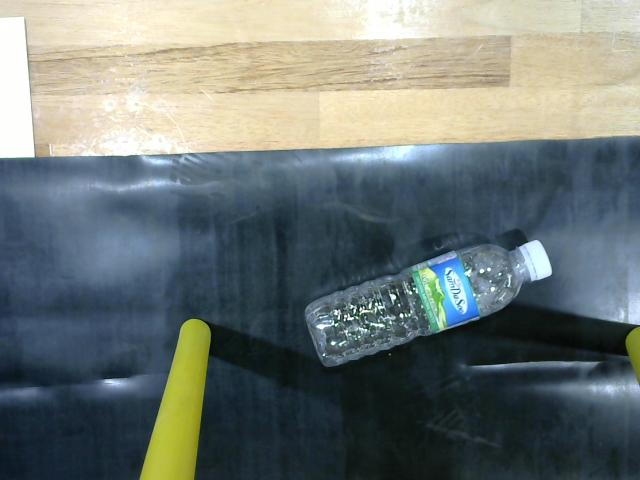bottle: (299, 230, 562, 377)
